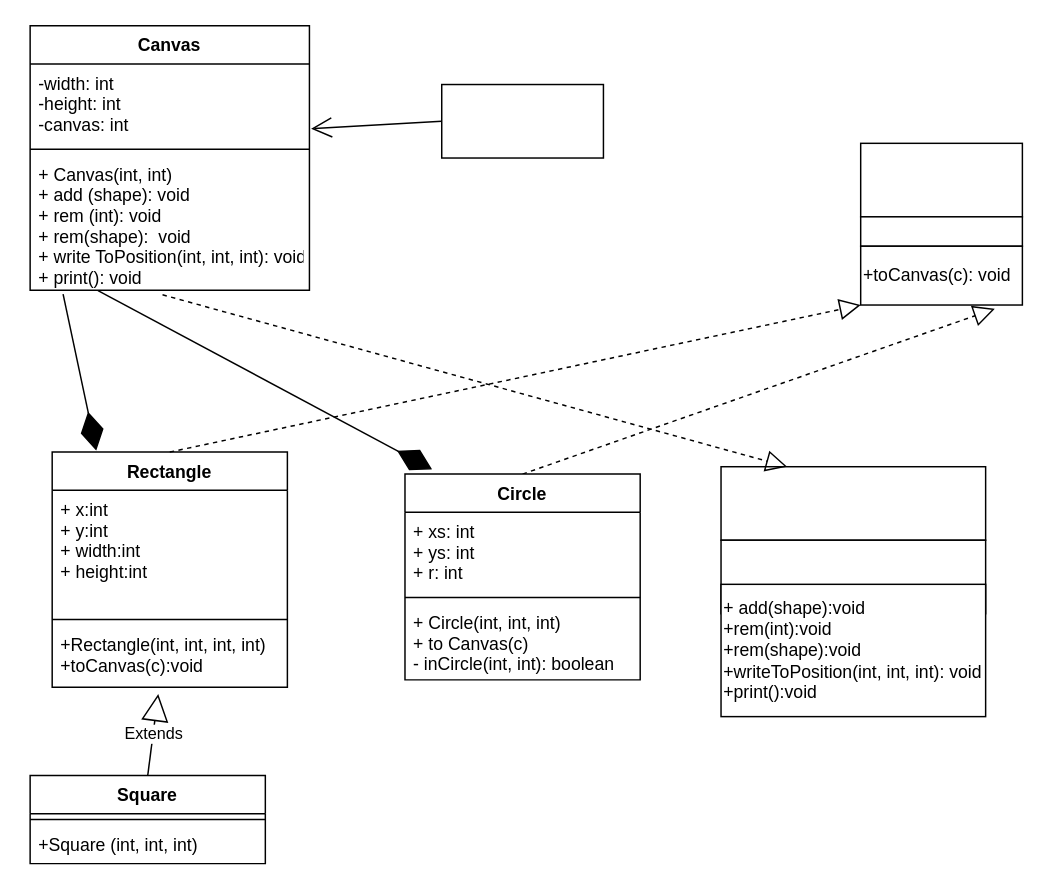
This 1048x894 diagram has some shape labels left out. Each missing label, with the centre of its shape:
TextArt: point 521,120
«interface» ICanvas: point 853,502
«interface» IShape: point 940,179
